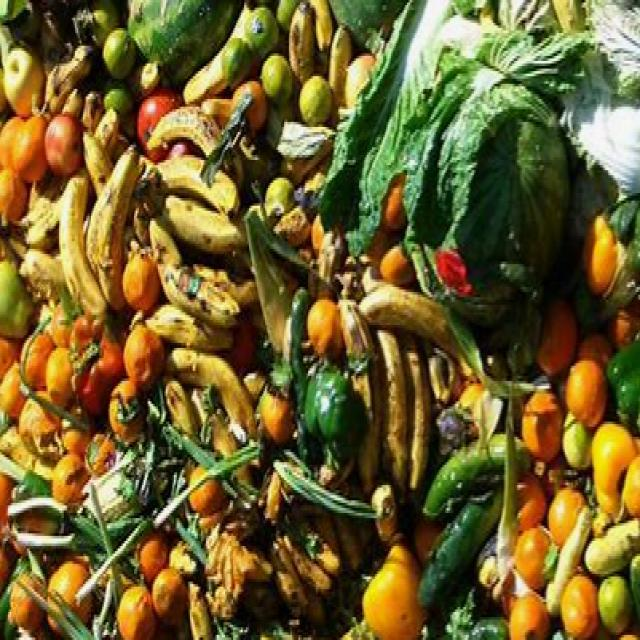paper: (325, 0, 448, 229), (58, 162, 107, 331), (360, 540, 436, 635), (576, 202, 618, 310), (563, 345, 608, 425), (45, 96, 79, 173)
